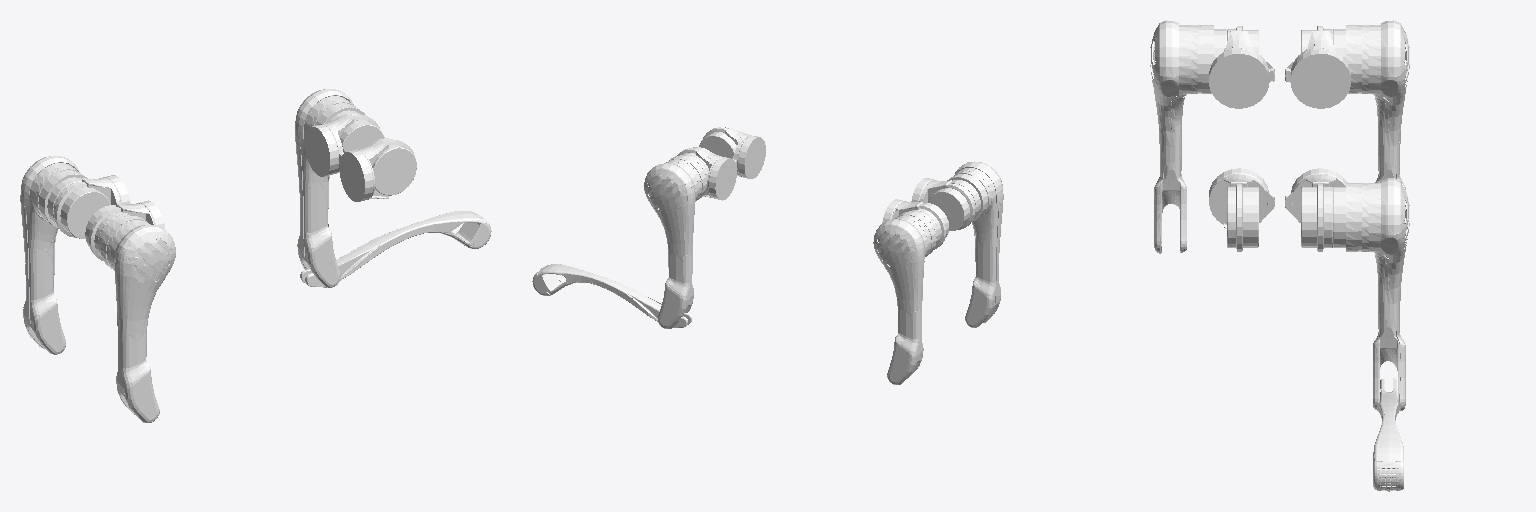
--- Render facts (derived) ---
The picture shows the robot from 3 angles, left to right: view 1: azimuth 30°, elevation 25°; view 2: azimuth 150°, elevation 25°; view 3: azimuth 270°, elevation 25°; orthographic projection.
Model b2_description with 37 links and 36 joints (12 revolute, 24 fixed), rooted at base_link, posed joints at zero except 4 at the middle of their limits (FL_calf_joint = -1.62, FR_calf_joint = -1.62, RL_calf_joint = -1.62, RR_calf_joint = -1.62).
Visible links, largest first — view 1: RR_thigh, RL_thigh, FL_thigh, FR_hip, FL_calf, FL_hip, RL_hip, RR_hip; view 2: RL_thigh, FL_thigh, RR_thigh, FL_calf, FR_hip, RR_hip, FL_hip, RL_hip; view 3: FL_thigh, RR_thigh, RL_thigh, FR_hip, RL_hip, RR_hip, FL_hip, FL_calf.
Boxes of the visible links, <box> form: RR_thigh: <box>98,214,175,422</box>; RL_thigh: <box>20,156,87,354</box>; FL_thigh: <box>295,89,365,287</box>; FR_hip: <box>339,138,416,201</box>; FL_calf: <box>300,211,491,287</box>; FL_hip: <box>305,114,384,176</box>; RL_hip: <box>53,175,130,238</box>; RR_hip: <box>85,200,164,260</box>; RL_thigh: <box>873,211,938,384</box>; FL_thigh: <box>644,155,708,328</box>; RR_thigh: <box>947,161,1003,327</box>; FL_calf: <box>532,264,691,327</box>; FR_hip: <box>699,127,765,178</box>; RR_hip: <box>911,178,975,230</box>; FL_hip: <box>677,147,736,200</box>; RL_hip: <box>882,199,948,249</box>; FL_thigh: <box>1333,178,1409,410</box>; RR_thigh: <box>1150,20,1226,253</box>; RL_thigh: <box>1333,20,1409,189</box>; FR_hip: <box>1209,168,1274,251</box>; RL_hip: <box>1285,26,1350,108</box>; RR_hip: <box>1209,26,1274,108</box>; FL_hip: <box>1285,168,1347,251</box>; FL_calf: <box>1373,378,1403,491</box>.
Bounding box of the posed robot: 1.11 × 0.4582 × 0.4441 m (x, y, z).
8 mesh visuals loaded from 13 distinct referenced files (8 Collada DAE); not drawn: 5 (reference not matched to a file when rendering).

The robot description file, URDF, robot "b2_description":
<?xml version="1.0" encoding="utf-8"?>
<!-- This URDF was automatically created by SolidWorks to URDF Exporter! Originally created by Stephen Brawner ([email redacted]) 
     Commit Version: 1.6.0-4-g7f85cfe  Build Version: 1.6.7995.38578
     For more information, please see http://wiki.ros.org/sw_urdf_exporter -->
<robot
  name="b2_description">
  <link
    name="base_link">
    <inertial>
      <origin
        xyz="0.000458 0.005261 0.000665"
        rpy="0 0 0" />
      <mass
        value="35.86" />
      <inertia
        ixx="0.27466"
        ixy="-0.000622"
        ixz="0.00315"
        iyy="1.0618"
        iyz="-0.00139"
        izz="1.1825" />
    </inertial>
    <visual>
      <origin
        xyz="0 0 0"
        rpy="0 0 0" />
      <geometry>
        <mesh
          filename="./meshes_yup/base_link.dae" />
      </geometry>
      <material
        name="">
        <color
          rgba="1 1 1 1" />
      </material>
    </visual>
    <collision>
      <origin
        xyz="0 0 0"
        rpy="0 0 0" />
        <geometry>
          <box size="0.5 0.28 0.15" />
        </geometry>
    </collision>
  </link>
  <link
    name="lidar_link">
    <inertial>
      <origin
        xyz="0.34218 0 0.17851"
        rpy="0 0 0" />
      <mass
        value="4.19E-15" />
      <inertia
        ixx="1.68E-27"
        ixy="-3.2E-45"
        ixz="7.68E-44"
        iyy="1.68E-27"
        iyz="-9.26E-47"
        izz="1.68E-27" />
    </inertial>
    <collision>
      <origin
        xyz="0 0 -0.02"
        rpy="0 0 0" />
      <geometry>
        <cylinder length="0.16" radius="0.076" />
        <!-- <mesh
          filename="./meshes_yup/lidar_link.STL" /> -->
      </geometry>
    </collision>
  </link>
  <joint
    name="joint_lidar"
    type="fixed">
    <origin
      xyz="0.34218 0 0.17851"
      rpy="0 0 0" />
    <parent
      link="base_link" />
    <child
      link="lidar_link" />
    <axis
      xyz="0 0 0" />
  </joint>
  <link
    name="f_dc_link">
    <inertial>
      <origin
        xyz="3.47E-18 0 5.55E-17"
        rpy="0 0 0" />
      <mass
        value="4.19E-15" />
      <inertia
        ixx="1.68E-27"
        ixy="-9.81E-45"
        ixz="-2.54E-44"
        iyy="1.68E-27"
        iyz="0"
        izz="1.68E-27" />
    </inertial>
  </link>
  <joint
    name="joint_f_dc"
    type="fixed">
    <origin
      xyz="0.41251 0.024997 0.04765"
      rpy="-2.3562 0 -1.5708" />
    <parent
      link="base_link" />
    <child
      link="f_dc_link" />
    <axis
      xyz="0 0 0" />
  </joint>
  <link
    name="r_dc_link">
    <inertial>
      <origin
        xyz="-7.46E-16 -3.33E-16 -1.11E-15"
        rpy="0 0 0" />
      <mass
        value="4.19E-15" />
      <inertia
        ixx="1.68E-27"
        ixy="-4.31E-44"
        ixz="2.48E-45"
        iyy="1.68E-27"
        iyz="0"
        izz="1.68E-27" />
    </inertial>
  </link>
  <joint
    name="joint_r_dc"
    type="fixed">
    <origin
      xyz="-0.4081 -0.025 0.024861"
      rpy="-2.3557 0 1.5708" />
    <parent
      link="base_link" />
    <child
      link="r_dc_link" />
    <axis
      xyz="0 0 0" />
  </joint>
  <link
    name="imu_link">
    <inertial>
      <origin
        xyz="-2.02E-17 1.73E-17 -1.39E-17"
        rpy="0 0 0" />
      <mass
        value="4.19E-15" />
      <inertia
        ixx="1.68E-27"
        ixy="1.84E-44"
        ixz="-7.35E-44"
        iyy="1.68E-27"
        iyz="-3.67E-44"
        izz="1.68E-27" />
    </inertial>
  </link>
  <joint
    name="joint_imu"
    type="fixed">
    <origin
      xyz="0 -0.02341 0.04927"
      rpy="0 0 0" />
    <parent
      link="base_link" />
    <child
      link="imu_link" />
    <axis
      xyz="0 0 0" />
  </joint>
  <link
    name="head_Link">
    <inertial>
      <origin
        xyz="0.33989 -0.000168 0.12029"
        rpy="0 0 0" />
      <mass
        value="3.6885" />
      <inertia
        ixx="0.026455"
        ixy="3.15E-05"
        ixz="0.00166"
        iyy="0.029221"
        iyz="-3.27E-05"
        izz="0.010918" />
    </inertial>
    <collision>
      <origin
        xyz="0.41 0 0.005"
        rpy="0 0 0" />
      <geometry>
        <box size="0.04 0.12 0.14" />
      </geometry>
    </collision>
  </link>
  <joint
    name="joint_head"
    type="fixed">
    <origin
      xyz="0 0 0"
      rpy="0 0 0" />
    <parent
      link="base_link" />
    <child
      link="head_Link" />
    <axis
      xyz="0 0 0" />
  </joint>
  <link
    name="tail_link">
    <inertial>
      <origin
        xyz="-0.37448 0.000488 0.006495"
        rpy="0 0 0" />
      <mass
        value="0.795" />
      <inertia
        ixx="0.0028118"
        ixy="1.95E-05"
        ixz="-7.87E-06"
        iyy="0.0047506"
        iyz="-1.57E-05"
        izz="0.0029154" />
    </inertial>
    <collision>
      <origin
        xyz="-0.405 0 0.005"
        rpy="0 0 0" />
      <geometry>
        <box size="0.025 0.12 0.14" />
      </geometry>
    </collision>
  </link>
  <joint
    name="joint_tail"
    type="fixed">
    <origin
      xyz="0 0 0"
      rpy="0 0 0" />
    <parent
      link="base_link" />
    <child
      link="tail_link" />
    <axis
      xyz="0 0 0" />
  </joint>
  <link
    name="FL_hip">
    <inertial>
      <origin
        xyz="-0.003841 -0.009068 0"
        rpy="0 0 0" />
      <mass
        value="2.673" />
      <inertia
        ixx="0.0033188"
        ixy="7.16E-05"
        ixz="-3.77E-07"
        iyy="0.0048743"
        iyz="4E-09"
        izz="0.0037087" />
    </inertial>
    <visual>
      <origin
        xyz="0 0 0"
        rpy="0 0 0" />
      <geometry>
        <mesh
          filename="./meshes_yup/FL_hip.dae" />
      </geometry>
      <material
        name="">
        <color
          rgba="1 1 1 1" />
      </material>
    </visual>
    <collision>
      <origin
        xyz="0 0.12 0"
        rpy="1.5707963267948966 0 0" />
      <geometry>
        <cylinder length="0.05" radius="0.07" />
      </geometry>
    </collision>
  </link>
  <joint
    name="FL_hip_joint"
    type="revolute">
    <origin
      xyz="0.3285 0.072 0"
      rpy="0 0 0" />
    <parent
      link="base_link" />
    <child
      link="FL_hip" />
    <axis
      xyz="1 0 0" />
    <limit
      lower="-0.87"
      upper="0.87"
      effort="200"
      velocity="23" />
  </joint>
  <link name="FL_hip_rotor">
    <!-- <visual>
      <origin rpy="0 1.5707963267948966 0" xyz="0 0 0"/>
      <geometry>
        <cylinder length="0.02" radius="0.05"/>
      </geometry>
    </visual> -->
    <collision>
      <origin rpy="0 1.5707963267948966 0" xyz="0 0 0"/>
      <geometry>
        <cylinder length="0.02" radius="0.05"/>
      </geometry>
    </collision>
    <inertial>
      <origin rpy="0 0 0" xyz="0.0 0.0 0.0"/>
      <mass value="0.2734"/>
      <inertia ixx="0.000144463" ixy="0.0" ixz="0.0" iyy="0.000144463" iyz="0.0" izz="0.000263053"/>
    </inertial>
  </link>
  <joint name="FL_hip_rotor_joint" type="fixed">
    <origin rpy="0 0 0" xyz="0.20205 0.072 0"/>
    <parent link="base_link"/>
    <child link="FL_hip_rotor"/>
  </joint>
  <link
    name="FL_thigh">
    <inertial>
      <origin
        xyz="-0.006279 -0.032049 -0.057835"
        rpy="0 0 0" />
      <mass
        value="4.536" />
      <inertia
        ixx="0.062299"
        ixy="0.00087781"
        ixz="-0.0036475"
        iyy="0.061399"
        iyz="0.0083537"
        izz="0.0081997" />
    </inertial>
    <visual>
      <origin
        xyz="0 0 0"
        rpy="0 0 0" />
      <geometry>
        <mesh
          filename="./meshes_yup/FL_thigh.dae" />
      </geometry>
      <material
        name="">
        <color
          rgba="1 1 1 1" />
      </material>
    </visual>
    <collision>
      <origin
        xyz="-0.025 0 -0.16"
        rpy="0 1.57 0" />
      <geometry>
        <box size="0.32 0.0445 0.054" />
      </geometry>
    </collision>
  </link>
  <joint
    name="FL_thigh_joint"
    type="revolute">
    <origin
      xyz="0 0.11973 0"
      rpy="0 0 0" />
    <parent
      link="FL_hip" />
    <child
      link="FL_thigh" />
    <axis
      xyz="0 1 0" />
    <limit
      lower="-0.94"
      upper="4.69"
      effort="200"
      velocity="23" />
  </joint>
  <link name="FL_thigh_rotor">
    <!-- <visual>
      <origin rpy="1.5707963267948966 0 0" xyz="0 0 0"/>
      <geometry>
        <cylinder length="0.02" radius="0.05"/>
      </geometry>
    </visual> -->
    <collision>
      <origin rpy="1.5707963267948966 0 0" xyz="0 0 0"/>
      <geometry>
        <cylinder length="0.02" radius="0.05"/>
      </geometry>
    </collision>
    <inertial>
      <origin rpy="0 0 0" xyz="0.0 0.0 0.0"/>
      <mass value="0.2734"/>
      <inertia ixx="0.000144463" ixy="0.0" ixz="0.0" iyy="0.000144463" iyz="0.0" izz="0.000263053"/>
    </inertial>
  </link>
  <joint name="FL_thigh_rotor_joint" type="fixed">
    <origin rpy="0 0 0" xyz="0 -0.00798 0"/>
    <parent link="FL_hip"/>
    <child link="FL_thigh_rotor"/>
  </joint>
  <link
    name="FL_calf">
    <inertial>
      <origin
        xyz="0.012422 0 -0.12499"
        rpy="0 0 0" />
      <mass
        value="0.404" />
      <inertia
        ixx="0.01143"
        ixy="0"
        ixz="0.000643"
        iyy="0.011534"
        iyz="0"
        izz="0.000331" />
    </inertial>
    <visual>
      <origin
        xyz="0 0 0"
        rpy="0 0 0" />
      <geometry>
        <mesh
          filename="./meshes_yup/FL_calf.dae" />
      </geometry>
      <material
        name="">
        <color
          rgba="1 1 1 1" />
      </material>
    </visual>
    <collision>
      <origin rpy="0 1.2 0" xyz="-0.002 0 -0.03"/>
      <geometry>
        <box size="0.1 0.0245 0.018"/>
      </geometry>
    </collision>
    <collision>
      <origin rpy="0 1.35 0" xyz="0.022 0 -0.1"/>
      <geometry>
        <box size="0.1 0.0245 0.018"/>
      </geometry>
    </collision>
    <collision>
      <origin rpy="0 1.53 0" xyz="0.036 0 -0.225"/>
      <geometry>
        <box size="0.15 0.0245 0.015"/>
      </geometry>
    </collision>
    <collision>
      <origin rpy="0 2 0" xyz="0.023 0 -0.31"/>
      <geometry>
        <box size="0.05 0.028 0.035"/>
      </geometry>
    </collision>
  </link>
  <joint
    name="FL_calf_joint"
    type="revolute">
    <origin
      xyz="0 -8.6984E-05 -0.35"
      rpy="0 0 0" />
    <parent
      link="FL_thigh" />
    <child
      link="FL_calf" />
    <axis
      xyz="0 1 0" />
    <limit
      lower="-2.82"
      upper="-0.43"
      effort="320"
      velocity="14" />
  </joint>
  <link name="FL_calf_rotor">
    <!-- <visual>
      <origin rpy="1.5707963267948966 0 0" xyz="0 0 0"/>
      <geometry>
        <cylinder length="0.02" radius="0.05"/>
      </geometry>
    </visual> -->
    <collision>
      <origin rpy="1.5707963267948966 0 0" xyz="0 0 0"/>
      <geometry>
        <cylinder length="0.02" radius="0.05"/>
      </geometry>
    </collision>
    <inertial>
      <origin rpy="0 0 0" xyz="0.0 0.0 0.0"/>
      <mass value="0.2734"/>
      <inertia ixx="0.000144463" ixy="0.0" ixz="0.0" iyy="0.000144463" iyz="0.0" izz="0.000263053"/>
    </inertial>
  </link>
  <joint name="FL_calf_rotor_joint" type="fixed">
    <origin rpy="0 0 0" xyz="0 -0.05788 0"/>
    <parent link="FL_thigh"/>
    <child link="FL_calf_rotor"/>
  </joint>
  <link
    name="FL_foot">
    <inertial>
      <origin
        xyz="-0.006511 0 -0.010144"
        rpy="0 0 0" />
      <mass
        value="0.126" />
      <inertia
        ixx="3.8E-05"
        ixy="0"
        ixz="1.1E-05"
        iyy="4.1E-05"
        iyz="0"
        izz="4.2E-05" />
    </inertial>
    <collision>
      <origin
        xyz="0 0 0"
        rpy="1.57 0 0" />
      <geometry>
        <sphere radius="0.032" />
      </geometry>
    </collision>
  </link>
  <joint
    name="FL_foot_joint"
    type="fixed">
    <origin
      xyz="0 0 -0.35"
      rpy="0 0 0" />
    <parent
      link="FL_calf" />
    <child
      link="FL_foot" />
  </joint>
  <link
    name="FR_hip">
    <inertial>
      <origin
        xyz="-0.009305 0.010228 0.000264"
        rpy="0 0 0" />
      <mass
        value="2.673" />
      <inertia
        ixx="0.0026431"
        ixy="-0.00019234"
        ixz="-6.76E-06"
        iyy="0.0046728"
        iyz="7.16E-06"
        izz="0.0034208" />
    </inertial>
    <visual>
      <origin
        xyz="0 0 0"
        rpy="0 0 0" />
      <geometry>
        <mesh
          filename="./meshes_yup/FR_hip.dae" />
      </geometry>
      <material
        name="">
        <color
          rgba="1 1 1 1" />
      </material>
    </visual>
    <collision>
      <origin
        xyz="0 -0.12 0"
        rpy="1.5707963267948966 0 0" />
      <geometry>
        <cylinder length="0.05" radius="0.07" />
      </geometry>
    </collision>
  </link>
  <joint
    name="FR_hip_joint"
    type="revolute">
    <origin
      xyz="0.3285 -0.072 0"
      rpy="0 0 0" />
    <parent
      link="base_link" />
    <child
      link="FR_hip" />
    <axis
      xyz="1 0 0" />
    <limit
      lower="-0.87"
      upper="0.87"
      effort="200"
      velocity="23" />
  </joint>
  <link name="FR_hip_rotor">
    <!-- <visual>
      <origin rpy="0 1.5707963267948966 0" xyz="0 0 0"/>
      <geometry>
        <cylinder length="0.02" radius="0.05"/>
      </geometry>
    </visual> -->
    <collision>
      <origin rpy="0 1.5707963267948966 0" xyz="0 0 0"/>
      <geometry>
        <cylinder length="0.02" radius="0.05"/>
      </geometry>
    </collision>
    <inertial>
      <origin rpy="0 0 0" xyz="0.0 0.0 0.0"/>
      <mass value="0.2734"/>
      <inertia ixx="0.000144463" ixy="0.0" ixz="0.0" iyy="0.000144463" iyz="0.0" izz="0.000263053"/>
    </inertial>
  </link>
  <joint name="FR_hip_rotor_joint" type="fixed">
    <origin rpy="0 0 0" xyz="0.20205 -0.072 0"/>
    <parent link="base_link"/>
    <child link="FR_hip_rotor"/>
  </joint>
  <link
    name="FR_thigh">
    <inertial>
      <origin
        xyz="-0.006279 0.032049 -0.057835"
        rpy="0 0 0" />
      <mass
        value="4.536" />
      <inertia
        ixx="0.06229908"
        ixy="-0.000877808"
        ixz="-0.003647464"
        iyy="0.06139927"
        iyz="-0.008353671"
        izz="0.008199745" />
    </inertial>
    <visual>
      <origin
        xyz="0 0 0"
        rpy="0 0 0" />
      <geometry>
        <mesh
          filename="./meshes_yup/FR_thigh.dae" />
      </geometry>
      <material
        name="">
        <color
          rgba="1 1 1 1" />
      </material>
    </visual>
    <collision>
      <origin rpy="0 1.57 0" xyz="-0.03 0 -0.2"/>
      <geometry>
        <box size="0.25 0.028 0.04"/>
      </geometry>
    </collision>
  </link>
  <joint
    name="FR_thigh_joint"
    type="revolute">
    <origin
      xyz="0 -0.11973 0"
      rpy="0 0 0" />
    <parent
      link="FR_hip" />
    <child
      link="FR_thigh" />
    <axis
      xyz="0 1 0" />
    <limit
      lower="-0.94"
      upper="4.69"
      effort="200"
      velocity="23" />
  </joint>
  <link name="FR_thigh_rotor">
    <!-- <visual>
      <origin rpy="1.5707963267948966 0 0" xyz="0 0 0"/>
      <geometry>
        <cylinder length="0.02" radius="0.05"/>
      </geometry>
    </visual> -->
    <collision>
      <origin rpy="1.5707963267948966 0 0" xyz="0 0 0"/>
      <geometry>
        <cylinder length="0.02" radius="0.05"/>
      </geometry>
    </collision>
    <inertial>
      <origin rpy="0 0 0" xyz="0.0 0.0 0.0"/>
      <mass value="0.2734"/>
      <inertia ixx="0.000144463" ixy="0.0" ixz="0.0" iyy="0.000144463" iyz="0.0" izz="0.000263053"/>
    </inertial>
  </link>
  <joint name="FR_thigh_rotor_joint" type="fixed">
    <origin rpy="0 0 0" xyz="0 0.00798 0"/>
    <parent link="FR_hip"/>
    <child link="FR_thigh_rotor"/>
  </joint>
  <link
    name="FR_calf">
    <inertial>
      <origin
        xyz="0.012422 0 -0.12499"
        rpy="0 0 0" />
      <mass
        value="0.404" />
      <inertia
        ixx="0.01143"
        ixy="0"
        ixz="0.000643"
        iyy="0.011534"
        iyz="0"
        izz="0.000331" />
    </inertial>
    <visual>
      <origin
        xyz="0 0 0"
        rpy="0 0 0" />
      <geometry>
        <mesh
          filename="./meshes_yup/FR_calf.dae" />
      </geometry>
      <material
        name="">
        <color
          rgba="1 1 1 1" />
      </material>
    </visual>
    <collision>
      <origin rpy="0 1.2 0" xyz="-0.002 0 -0.03"/>
      <geometry>
        <box size="0.1 0.0245 0.018"/>
      </geometry>
    </collision>
    <collision>
      <origin rpy="0 1.35 0" xyz="0.022 0 -0.1"/>
      <geometry>
        <box size="0.1 0.0245 0.018"/>
      </geometry>
    </collision>
    <collision>
      <origin rpy="0 1.53 0" xyz="0.036 0 -0.225"/>
      <geometry>
        <box size="0.15 0.0245 0.015"/>
      </geometry>
    </collision>
    <collision>
      <origin rpy="0 2 0" xyz="0.023 0 -0.31"/>
      <geometry>
        <box size="0.05 0.028 0.035"/>
      </geometry>
    </collision>
  </link>
  <joint
    name="FR_calf_joint"
    type="revolute">
    <origin
      xyz="0 8.6986E-05 -0.35"
      rpy="0 0 0" />
    <parent
      link="FR_thigh" />
    <child
      link="FR_calf" />
    <axis
      xyz="0 1 0" />
    <limit
      lower="-2.82"
      upper="-0.43"
      effort="320"
      velocity="14" />
  </joint>
  <link name="FR_calf_rotor">
    <!-- <visual>
      <origin rpy="1.5707963267948966 0 0" xyz="0 0 0"/>
      <geometry>
        <cylinder length="0.02" radius="0.05"/>
      </geometry>
      <material name="green"/>
    </visual> -->
    <collision>
      <origin rpy="1.5707963267948966 0 0" xyz="0 0 0"/>
      <geometry>
        <cylinder length="0.02" radius="0.05"/>
      </geometry>
    </collision>
    <inertial>
      <origin rpy="0 0 0" xyz="0.0 0.0 0.0"/>
      <mass value="0.2734"/>
      <inertia ixx="0.000144463" ixy="0.0" ixz="0.0" iyy="0.000144463" iyz="0.0" izz="0.000263053"/>
    </inertial>
  </link>
  <joint name="FR_calf_rotor_joint" type="fixed">
    <origin rpy="0 0 0" xyz="0 0.05788 0"/>
    <parent link="FR_thigh"/>
    <child link="FR_calf_rotor"/>
  </joint>
  <link
    name="FR_foot">
    <inertial>
      <origin
        xyz="-0.006511 0 -0.010144"
        rpy="0 0 0" />
      <mass
        value="0.126" />
      <inertia
        ixx="3.8E-05"
        ixy="0"
        ixz="1.1E-05"
        iyy="4.1E-05"
        iyz="0"
        izz="4.2E-05" />
    </inertial>
    <collision>
      <origin
        xyz="0 0 0"
        rpy="1.57 0 0" />
      <geometry>
        <sphere radius="0.032" />
      </geometry>
    </collision>
  </link>
  <joint
    name="FR_foot_joint"
    type="fixed">
    <origin
      xyz="0 0 -0.35"
      rpy="0 0 0" />
    <parent
      link="FR_calf" />
    <child
      link="FR_foot" />
  </joint>
  <link
    name="RL_hip">
    <inertial>
      <origin
        xyz="0.009305 -0.010228 0.000264"
        rpy="0 0 0" />
      <mass
        value="2.673" />
      <inertia
        ixx="0.0026431"
        ixy="-0.00019234"
        ixz="6.76E-06"
        iyy="0.0046728"
        iyz="-7.16E-06"
        izz="0.0034208" />
    </inertial>
    <visual>
      <origin
        xyz="0 0 0"
        rpy="0 0 0" />
      <geometry>
        <mesh
          filename="./meshes_yup/RL_hip.dae" />
      </geometry>
      <material
        name="">
        <color
          rgba="1 1 1 1" />
      </material>
    </visual>
    <collision>
      <origin
        xyz="0 0.12 0"
        rpy="1.5707963267948966 0 0" />
      <geometry>
        <cylinder length="0.05" radius="0.07" />
      </geometry>
    </collision>
  </link>
  <joint
    name="RL_hip_joint"
    type="revolute">
    <origin
      xyz="-0.3285 0.072 0"
      rpy="0 0 0" />
    <parent
      link="base_link" />
    <child
      link="RL_hip" />
    <axis
      xyz="1 0 0" />
    <limit
      lower="-0.87"
      upper="0.87"
      effort="200"
      velocity="23" />
  </joint>
  <link name="RL_hip_rotor">
    <!-- <visual>
      <origin rpy="0 1.5707963267948966 0" xyz="0 0 0"/>
      <geometry>
        <cylinder length="0.02" radius="0.05"/>
      </geometry>
    </visual> -->
    <collision>
      <origin rpy="0 1.5707963267948966 0" xyz="0 0 0"/>
      <geometry>
        <cylinder length="0.02" radius="0.05"/>
      </geometry>
    </collision>
    <inertial>
      <origin rpy="0 0 0" xyz="0.0 0.0 0.0"/>
      <mass value="0.2734"/>
      <inertia ixx="0.000144463" ixy="0.0" ixz="0.0" iyy="0.000144463" iyz="0.0" izz="0.000263053"/>
    </inertial>
  </link>
  <joint name="RL_hip_rotor_joint" type="fixed">
    <origin rpy="0 0 0" xyz="-0.20205 0.072 0"/>
    <parent link="base_link"/>
    <child link="RL_hip_rotor"/>
  </joint>
  <link
    name="RL_thigh">
    <inertial>
      <origin
        xyz="-0.006279 -0.032049 -0.057835"
        rpy="0 0 0" />
      <mass
        value="4.536" />
      <inertia
        ixx="0.06229908"
        ixy="0.000877808"
        ixz="-0.003647464"
        iyy="0.06139927"
        iyz="0.008353671"
        izz="0.008199745" />
    </inertial>
    <visual>
      <origin
        xyz="0 0 0"
        rpy="0 0 0" />
      <geometry>
        <mesh
          filename="./meshes_yup/RL_thigh.dae" />
      </geometry>
      <material
        name="">
        <color
          rgba="1 1 1 1" />
      </material>
    </visual>
    <collision>
      <origin rpy="0 1.57 0" xyz="-0.03 0 -0.2"/>
      <geometry>
        <box size="0.25 0.028 0.04"/>
      </geometry>
    </collision>
  </link>
  <joint
    name="RL_thigh_joint"
    type="revolute">
    <origin
      xyz="0 0.11973 0"
      rpy="0 0 0" />
    <parent
      link="RL_hip" />
    <child
      link="RL_thigh" />
    <axis
      xyz="0 1 0" />
    <limit
      lower="-0.94"
      upper="4.69"
      effort="200"
      velocity="23" />
  </joint>
  <link name="RL_thigh_rotor">
    <!-- <visual>
      <origin rpy="1.5707963267948966 0 0" xyz="0 0 0"/>
      <geometry>
        <cylinder length="0.02" radius="0.05"/>
      </geometry>
    </visual> -->
    <collision>
      <origin rpy="1.5707963267948966 0 0" xyz="0 0 0"/>
      <geometry>
        <cylinder length="0.02" radius="0.05"/>
      </geometry>
    </collision>
    <inertial>
      <origin rpy="0 0 0" xyz="0.0 0.0 0.0"/>
      <mass value="0.2734"/>
      <inertia ixx="0.000144463" ixy="0.0" ixz="0.0" iyy="0.000144463" iyz="0.0" izz="0.000263053"/>
    </inertial>
  </link>
  <joint name="RL_thigh_rotor_joint" type="fixed">
    <origin rpy="0 0 0" xyz="0 -0.00798 0"/>
    <parent link="RL_hip"/>
    <child link="RL_thigh_rotor"/>
  </joint>
  <link
    name="RL_calf">
    <inertial>
      <origin
        xyz="0.012422 0 -0.12499"
        rpy="0 0 0" />
      <mass
        value="0.404" />
      <inertia
        ixx="0.01143"
        ixy="0"
        ixz="0.000643"
        iyy="0.011534"
        iyz="0"
        izz="0.000331" />
    </inertial>
    <visual>
      <origin
        xyz="0 0 0"
        rpy="0 0 0" />
      <geometry>
        <mesh
          filename="./meshes_yup/RL_calf.dae" />
      </geometry>
      <material
        name="">
        <color
          rgba="1 1 1 1" />
      </material>
    </visual>
    <collision>
      <origin rpy="0 1.2 0" xyz="-0.002 0 -0.03"/>
      <geometry>
        <box size="0.1 0.0245 0.018"/>
      </geometry>
    </collision>
    <collision>
      <origin rpy="0 1.35 0" xyz="0.022 0 -0.1"/>
      <geometry>
        <box size="0.1 0.0245 0.018"/>
      </geometry>
    </collision>
    <collision>
      <origin rpy="0 1.53 0" xyz="0.036 0 -0.225"/>
      <geometry>
        <box size="0.15 0.0245 0.015"/>
      </geometry>
    </collision>
    <collision>
      <origin rpy="0 2 0" xyz="0.023 0 -0.31"/>
      <geometry>
        <box size="0.05 0.028 0.035"/>
      </geometry>
    </collision>
  </link>
  <joint
    name="RL_calf_joint"
    type="revolute">
    <origin
      xyz="0 -8.6984E-05 -0.35"
      rpy="0 0 0" />
    <parent
      link="RL_thigh" />
    <child
      link="RL_calf" />
    <axis
      xyz="0 1 0" />
    <limit
      lower="-2.82"
      upper="-0.43"
      effort="320"
      velocity="14" />
  </joint>
  <link name="RL_calf_rotor">
    <!-- <visual>
      <origin rpy="1.5707963267948966 0 0" xyz="0 0 0"/>
      <geometry>
        <cylinder length="0.02" radius="0.05"/>
      </geometry>
    </visual> -->
    <collision>
      <origin rpy="1.5707963267948966 0 0" xyz="0 0 0"/>
      <geometry>
        <cylinder length="0.02" radius="0.05"/>
      </geometry>
    </collision>
    <inertial>
      <origin rpy="0 0 0" xyz="0.0 0.0 0.0"/>
      <mass value="0.2734"/>
      <inertia ixx="0.000144463" ixy="0.0" ixz="0.0" iyy="0.000144463" iyz="0.0" izz="0.000263053"/>
    </inertial>
  </link>
  <joint name="RL_calf_rotor_joint" type="fixed">
    <origin rpy="0 0 0" xyz="0 -0.05788 0"/>
    <parent link="RL_thigh"/>
    <child link="RL_calf_rotor"/>
  </joint>
  <link
    name="RL_foot">
    <inertial>
      <origin
        xyz="-0.006511 0 -0.010144"
        rpy="0 0 0" />
      <mass
        value="0.126" />
      <inertia
        ixx="3.8E-05"
        ixy="0"
        ixz="1.1E-05"
        iyy="4.1E-05"
        iyz="0"
        izz="4.2E-05" />
    </inertial>
    <collision>
      <origin
        xyz="0 0 0"
        rpy="1.57 0 0" />
      <geometry>
        <sphere radius="0.032" />
      </geometry>
    </collision>
  </link>
  <joint
    name="RL_foot_joint"
    type="fixed">
    <origin
      xyz="0 0 -0.35"
      rpy="0 0 0" />
    <parent
      link="RL_calf" />
    <child
      link="RL_foot" />
  </joint>
  <link
    name="RR_hip">
    <inertial>
      <origin
        xyz="0.003841 0.009068 0"
        rpy="0 0 0" />
      <mass
        value="2.673" />
      <inertia
        ixx="0.0033188"
        ixy="7.16E-05"
        ixz="3.77E-07"
        iyy="0.0048743"
        iyz="-4E-09"
        izz="0.0037087" />
    </inertial>
    <visual>
      <origin
        xyz="0 0 0"
        rpy="0 0 0" />
      <geometry>
        <mesh
          filename="./meshes_yup/RR_hip.dae" />
      </geometry>
      <material
        name="">
        <color
          rgba="1 1 1 1" />
      </material>
    </visual>
    <collision>
      <origin
        xyz="0 -0.12 0"
        rpy="1.5707963267948966 0 0" />
      <geometry>
        <cylinder length="0.05" radius="0.07" />
      </geometry>
    </collision>
  </link>
  <joint
    name="RR_hip_joint"
    type="revolute">
    <origin
      xyz="-0.3285 -0.072 0"
      rpy="0 0 0" />
    <parent
      link="base_link" />
    <child
      link="RR_hip" />
    <axis
      xyz="1 0 0" />
    <limit
      lower="-0.87"
      upper="0.87"
      effort="200"
      velocity="23" />
  </joint>
  <link name="RR_hip_rotor">
    <!-- <visual>
      <origin rpy="0 1.5707963267948966 0" xyz="0 0 0"/>
      <geometry>
        <cylinder length="0.02" radius="0.05"/>
      </geometry>
    </visual> -->
    <collision>
      <origin rpy="0 1.5707963267948966 0" xyz="0 0 0"/>
      <geometry>
        <cylinder length="0.02" radius="0.05"/>
      </geometry>
    </collision>
    <inertial>
      <origin rpy="0 0 0" xyz="0.0 0.0 0.0"/>
      <mass value="0.2734"/>
      <inertia ixx="0.000144463" ixy="0.0" ixz="0.0" iyy="0.000144463" iyz="0.0" izz="0.000263053"/>
    </inertial>
  </link>
  <joint name="RR_hip_rotor_joint" type="fixed">
    <origin rpy="0 0 0" xyz="-0.20205 -0.072 0"/>
    <parent link="base_link"/>
    <child link="RR_hip_rotor"/>
  </joint>
  <link
    name="RR_thigh">
    <inertial>
      <origin
        xyz="-0.006279 0.032049 -0.057835"
        rpy="0 0 0" />
      <mass
        value="4.536" />
      <inertia
        ixx="0.062299"
        ixy="-0.00087781"
        ixz="-0.0036475"
        iyy="0.061399"
        iyz="-0.0083537"
        izz="0.0081997" />
    </inertial>
    <visual>
      <origin
        xyz="0 0 0"
        rpy="0 0 0" />
      <geometry>
        <mesh
          filename="./meshes_yup/RR_thigh.dae" />
      </geometry>
      <material
        name="">
        <color
          rgba="1 1 1 1" />
      </material>
    </visual>
    <collision>
      <origin rpy="0 1.57 0" xyz="-0.03 0 -0.2"/>
      <geometry>
        <box size="0.25 0.028 0.04"/>
      </geometry>
    </collision>
  </link>
  <joint
    name="RR_thigh_joint"
    type="revolute">
    <origin
      xyz="0 -0.11973 0"
      rpy="0 0 0" />
    <parent
      link="RR_hip" />
    <child
      link="RR_thigh" />
    <axis
      xyz="0 1 0" />
    <limit
      lower="-0.94"
      upper="4.69"
      effort="200"
      velocity="23" />
  </joint>
  <link name="RR_thigh_rotor">
    <!-- <visual>
      <origin rpy="1.5707963267948966 0 0" xyz="0 0 0"/>
      <geometry>
        <cylinder length="0.02" radius="0.05"/>
      </geometry>
    </visual> -->
    <collision>
      <origin rpy="1.5707963267948966 0 0" xyz="0 0 0"/>
      <geometry>
        <cylinder length="0.02" radius="0.05"/>
      </geometry>
    </collision>
    <inertial>
      <origin rpy="0 0 0" xyz="0.0 0.0 0.0"/>
      <mass value="0.2734"/>
      <inertia ixx="0.000144463" ixy="0.0" ixz="0.0" iyy="0.000144463" iyz="0.0" izz="0.000263053"/>
    </inertial>
  </link>
  <joint name="RR_thigh_rotor_joint" type="fixed">
    <origin rpy="0 0 0" xyz="0 0.00798 0"/>
    <parent link="RR_hip"/>
    <child link="RR_thigh_rotor"/>
  </joint>
  <link
    name="RR_calf">
    <inertial>
      <origin
        xyz="0.012422 0 -0.12499"
        rpy="0 0 0" />
      <mass
        value="0.404" />
      <inertia
        ixx="0.01143"
        ixy="0"
        ixz="0.000643"
        iyy="0.011534"
        iyz="0"
        izz="0.000331" />
    </inertial>
    <visual>
      <origin
        xyz="0 0 0"
        rpy="0 0 0" />
      <geometry>
        <mesh
          filename="./meshes_yup/RR_calf.dae" />
      </geometry>
      <material
        name="">
        <color
          rgba="1 1 1 1" />
      </material>
    </visual>
    <collision>
      <origin rpy="0 1.2 0" xyz="-0.002 0 -0.03"/>
      <geometry>
        <box size="0.1 0.0245 0.018"/>
      </geometry>
    </collision>
    <collision>
      <origin rpy="0 1.35 0" xyz="0.022 0 -0.1"/>
      <geometry>
        <box size="0.1 0.0245 0.018"/>
      </geometry>
    </collision>
    <collision>
      <origin rpy="0 1.53 0" xyz="0.036 0 -0.225"/>
      <geometry>
        <box size="0.15 0.0245 0.015"/>
      </geometry>
    </collision>
    <collision>
      <origin rpy="0 2 0" xyz="0.023 0 -0.31"/>
      <geometry>
        <box size="0.05 0.028 0.035"/>
      </geometry>
    </collision>
  </link>
  <joint
    name="RR_calf_joint"
    type="revolute">
    <origin
      xyz="0 8.6986E-05 -0.35"
      rpy="0 0 0" />
    <parent
      link="RR_thigh" />
    <child
      link="RR_calf" />
    <axis
      xyz="0 1 0" />
    <limit
      lower="-2.82"
      upper="-0.43"
      effort="320"
      velocity="14" />
  </joint>
  <link name="RR_calf_rotor">
    <!-- <visual>
      <origin rpy="1.5707963267948966 0 0" xyz="0 0 0"/>
      <geometry>
        <cylinder length="0.02" radius="0.05"/>
      </geometry>
    </visual> -->
    <collision>
      <origin rpy="1.5707963267948966 0 0" xyz="0 0 0"/>
      <geometry>
        <cylinder length="0.02" radius="0.05"/>
      </geometry>
    </collision>
    <inertial>
      <origin rpy="0 0 0" xyz="0.0 0.0 0.0"/>
      <mass value="0.2734"/>
      <inertia ixx="0.000144463" ixy="0.0" ixz="0.0" iyy="0.000144463" iyz="0.0" izz="0.000263053"/>
    </inertial>
  </link>
  <joint name="RR_calf_rotor_joint" type="fixed">
    <origin rpy="0 0 0" xyz="0 0.05788 0"/>
    <parent link="RR_thigh"/>
    <child link="RR_calf_rotor"/>
  </joint>
  <link
    name="RR_foot">
    <inertial>
      <origin
        xyz="-0.006511 0 -0.010144"
        rpy="0 0 0" />
      <mass
        value="0.126" />
      <inertia
        ixx="3.8E-05"
        ixy="0"
        ixz="1.1E-05"
        iyy="4.1E-05"
        iyz="0"
        izz="4.2E-05" />
    </inertial>
    <collision>
      <origin
        xyz="0 0 0"
        rpy="1.57 0 0" />
      <geometry>
        <sphere radius="0.032" />
      </geometry>
    </collision>
  </link>
  <joint
    name="RR_foot_joint"
    type="fixed">
    <origin
      xyz="0 -8.6984E-05 -0.35"
      rpy="0 0 0" />
    <parent
      link="RR_calf" />
    <child
      link="RR_foot" />
  </joint>
  <link
    name="f_oc_link">
    <inertial>
      <origin
        xyz="-3.39E-15 1.46E-16 -6.11E-16"
        rpy="0 0 0" />
      <mass
        value="4.19E-15" />
      <inertia
        ixx="1.68E-27"
        ixy="-3.89E-44"
        ixz="5.04E-44"
        iyy="1.68E-27"
        iyz="2.81E-45"
        izz="1.68E-27" />
    </inertial>
    <!-- <visual>
      <origin
        xyz="0 0 0"
        rpy="0 0 0" />
      <geometry>
        <mesh
          filename="./meshes_yup/f_oc_link.STL" />
      </geometry>
      <material
        name="">
        <color
          rgba="1 1 1 1" />
      </material>
    </visual>
    <collision>
      <origin
        xyz="0 0 0"
        rpy="0 0 0" />
      <geometry>
        <mesh
          filename="./meshes_yup/f_oc_link.STL" />
      </geometry>
    </collision> -->
  </link>
  <joint
    name="joint_f_oc"
    type="fixed">
    <origin
      xyz="0.39079 0 -0.013433"
      rpy="-1.5708 0 -1.5708" />
    <parent
      link="base_link" />
    <child
      link="f_oc_link" />
    <axis
      xyz="0 0 0" />
  </joint>
  <link
    name="r_oc_link">
    <inertial>
      <origin
        xyz="-0.39143 1.52E-07 -0.011961"
        rpy="0 0 0" />
      <mass
        value="4.19E-12" />
      <inertia
        ixx="1.68E-22"
        ixy="9.03E-39"
        ixz="0"
        iyy="1.68E-22"
        iyz="-1.2E-38"
        izz="1.68E-22" />
    </inertial>
    <!-- <visual>
      <origin
        xyz="0 0 0"
        rpy="0 0 0" />
      <geometry>
        <mesh
          filename="./meshes_yup/r_oc_link.STL" />
      </geometry>
      <material
        name="">
        <color
          rgba="1 1 1 1" />
      </material>
    </visual>
    <collision>
      <origin
        xyz="0 0 0"
        rpy="0 0 0" />
      <geometry>
        <mesh
          filename="./meshes_yup/r_oc_link.STL" />
      </geometry>
    </collision> -->
  </link>
  <joint
    name="joint_r_oc"
    type="fixed">
    <origin
      xyz="-0.38451 0 -0.023249"
      rpy="-1.5708 0 1.5708" />
    <parent
      link="base_link" />
    <child
      link="r_oc_link" />
    <axis
      xyz="0 0 0" />
  </joint>
</robot>
